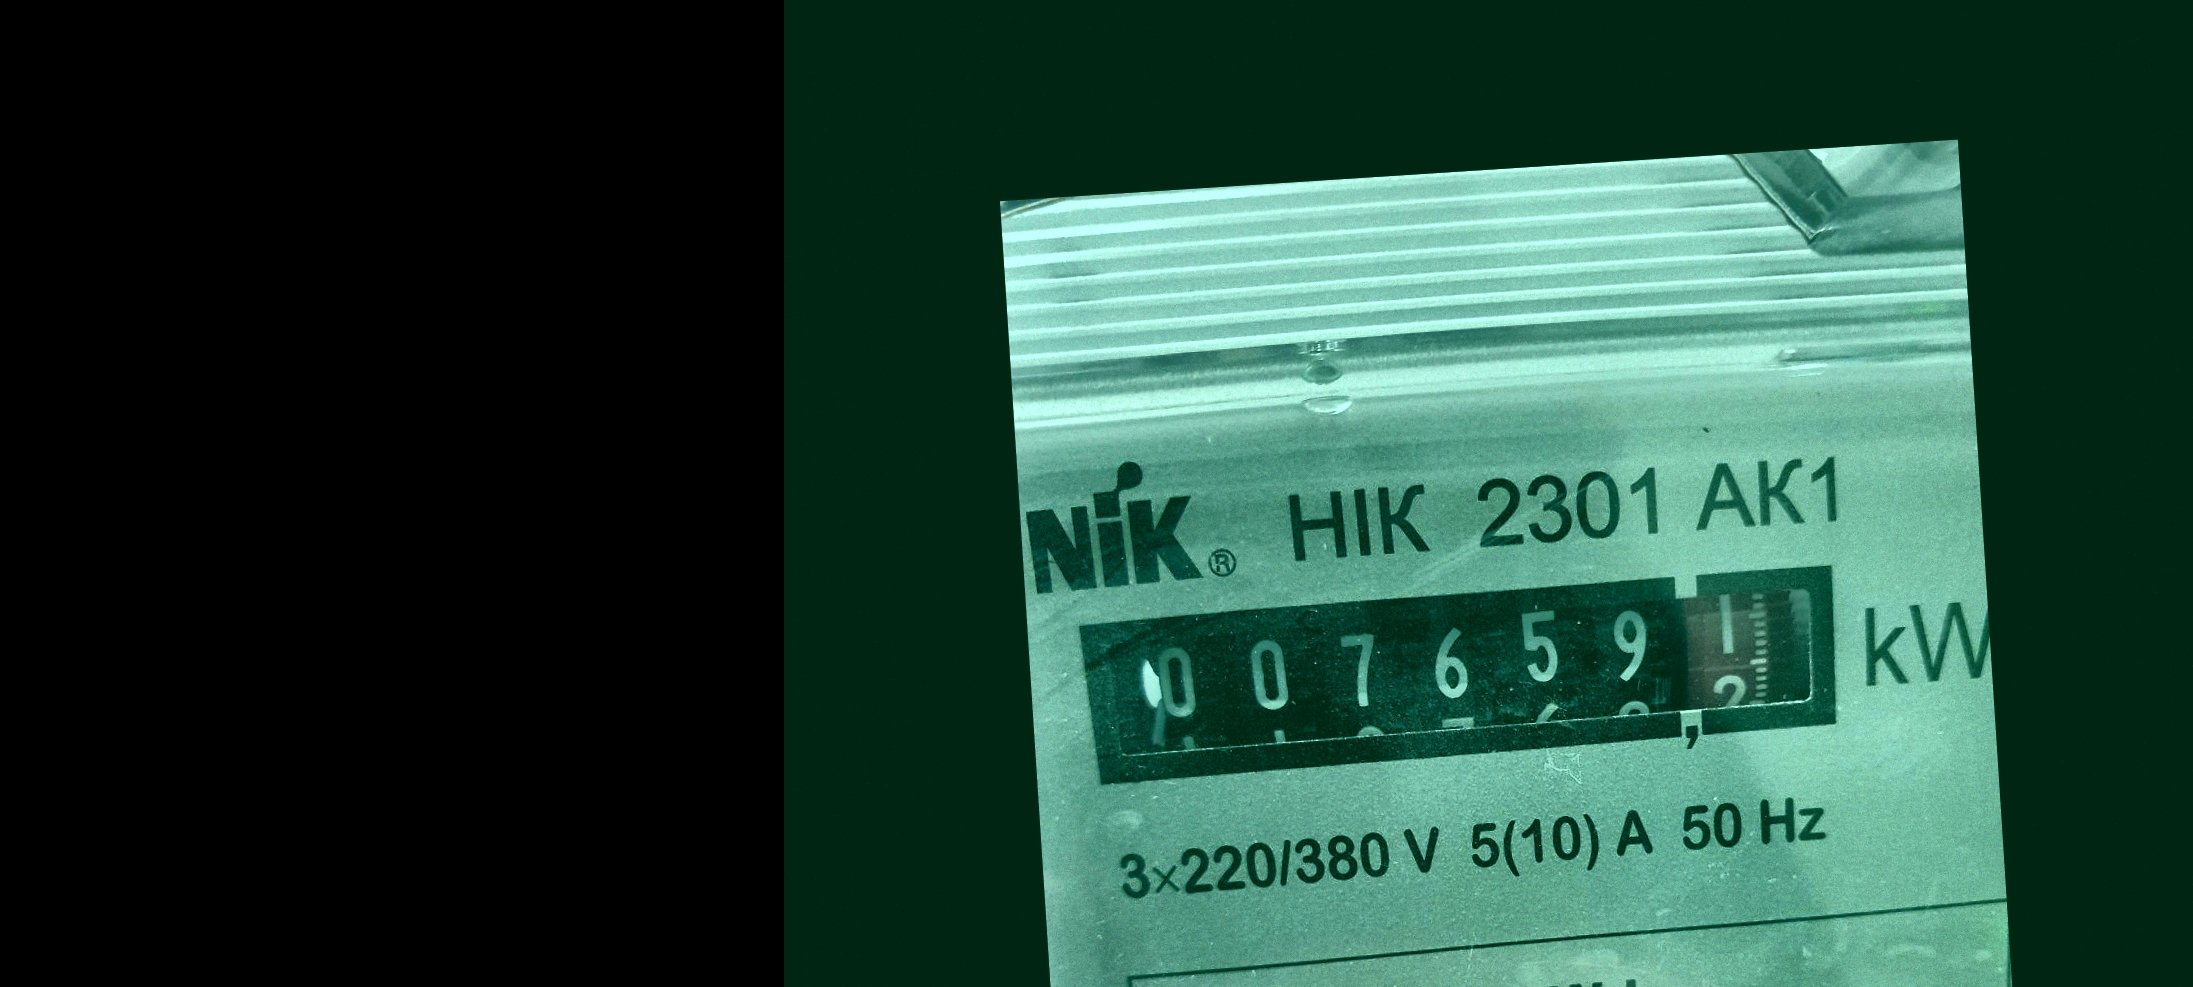0: (1238, 629, 1299, 719), (1150, 636, 1206, 728)
1: (1710, 586, 1748, 663)
5: (1515, 603, 1566, 688)
6: (1422, 618, 1478, 705)
7: (1336, 626, 1383, 714)
9: (1608, 601, 1655, 691)
screen: (1059, 542, 1864, 807)
